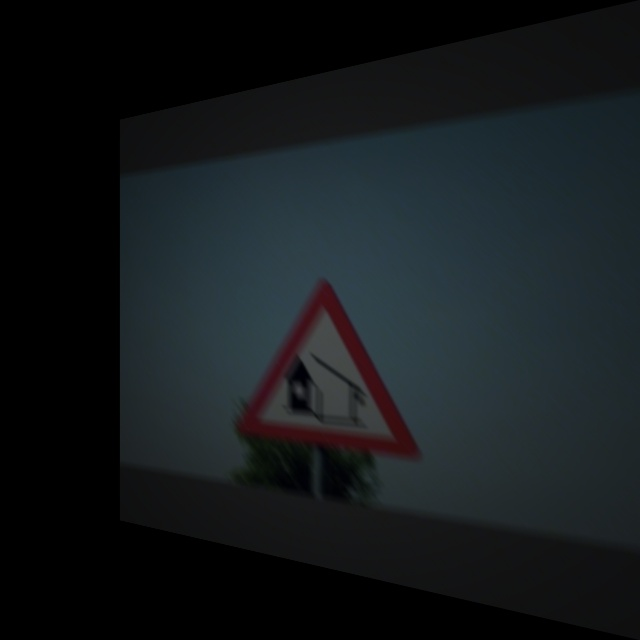Barrier_Ahead: (228, 266, 437, 467)
